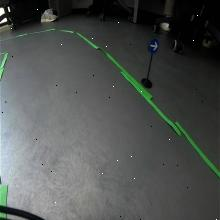right: (148, 37, 159, 54)
